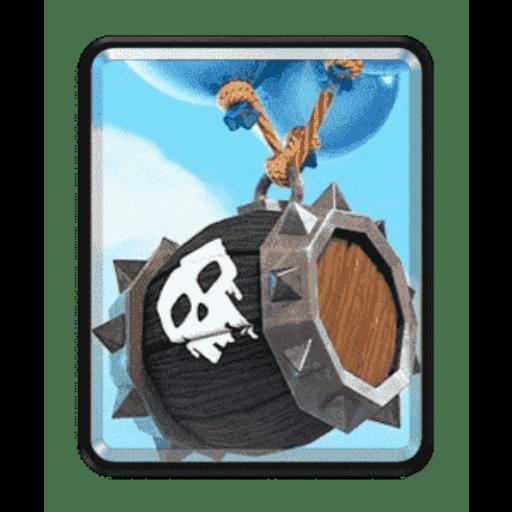skeleton-barrel: (92, 60, 418, 462)
